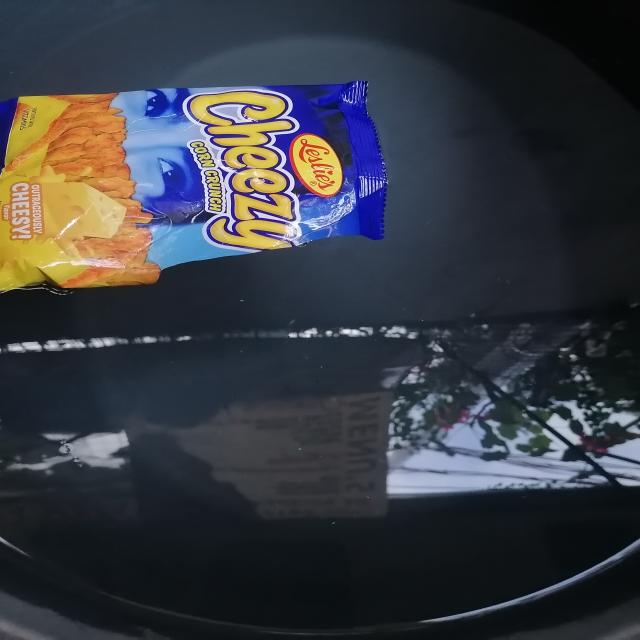Plastic Wrapper: (0, 48, 433, 312)
